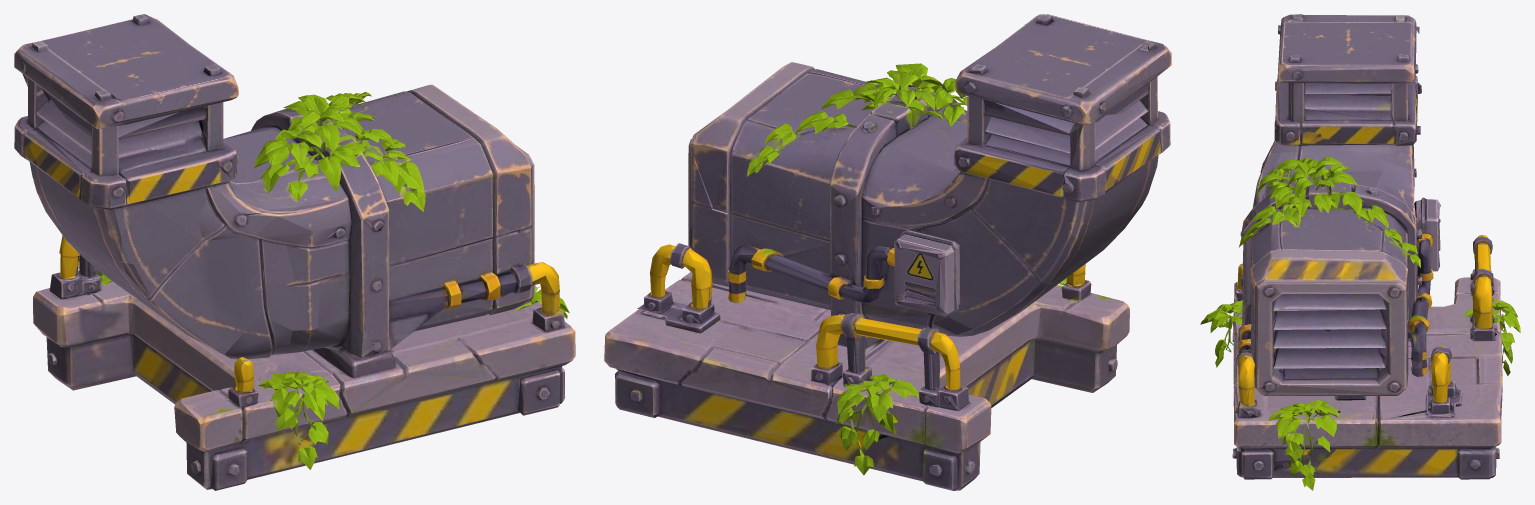
File: curved_industrial_vent.glb
3 views of the same model, side by side, from view 1: azimuth 30°, elevation 25°; view 2: azimuth 150°, elevation 25°; view 3: azimuth 270°, elevation 25° (orthographic). The views are drawn at different scales.
Visible parts, largest first — view 1: output_unwrapped; view 2: output_unwrapped; view 3: output_unwrapped.
Part boxes in pixels (x1=…): output_unwrapped: x1=14, y1=14, x2=575, y2=490; output_unwrapped: x1=604, y1=14, x2=1171, y2=490; output_unwrapped: x1=1200, y1=14, x2=1520, y2=490.
Size of what is drawn, in the model's own units: 1.27 by 1 by 0.9437.
1 material, 1 textured.
